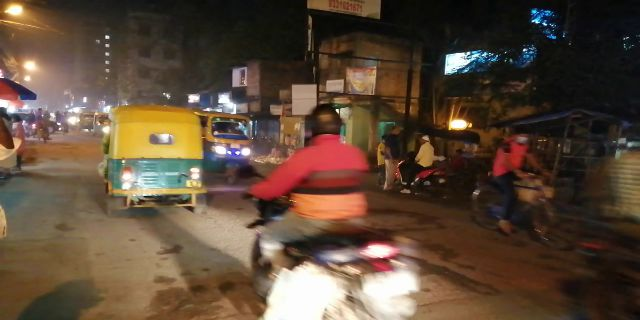Autorickshaw: (102, 101, 210, 220), (214, 109, 255, 179)
